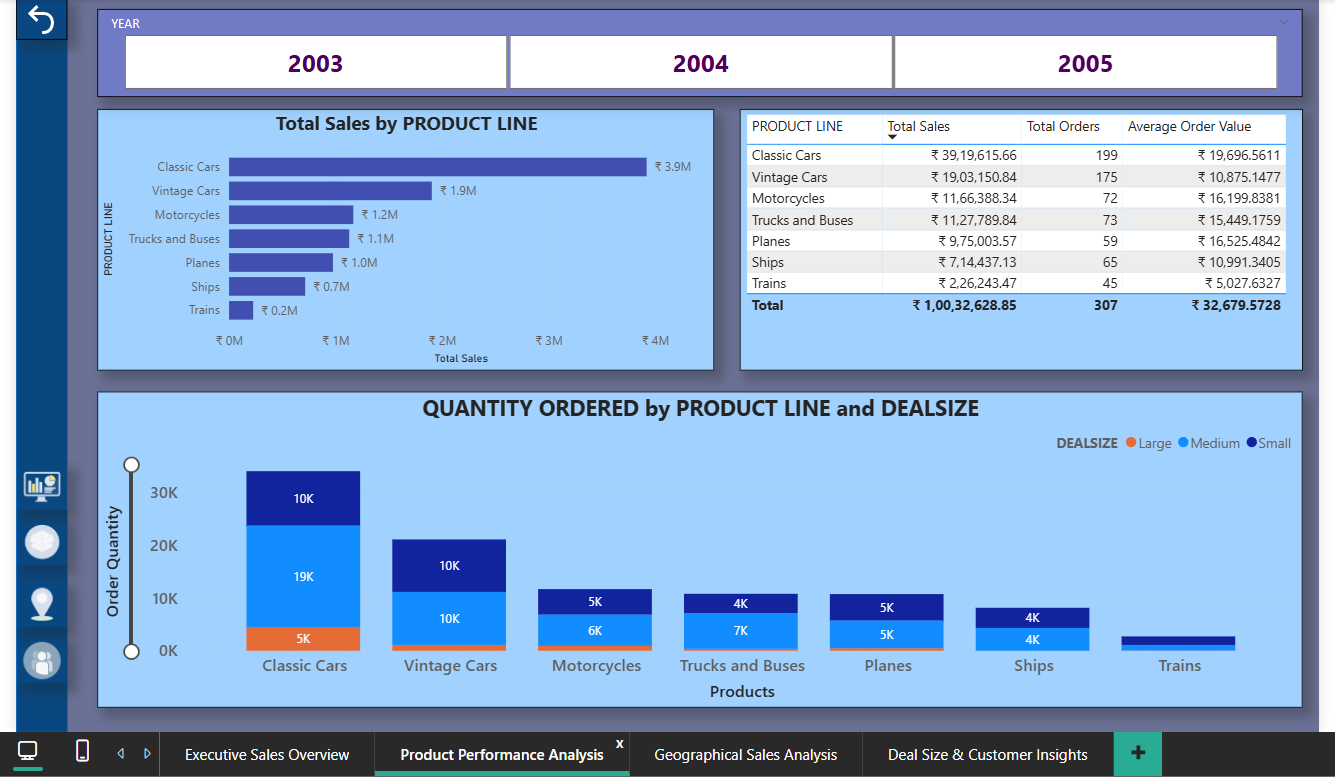

What the dashboard file says about the page in this screenshot:
{"tool":"powerbi","page":{"name":"Product Performance Analysis","canvas":[1280,720],"ordinal":1},"visuals":[{"type":"clusteredBarChart","fields":{"Category":["Sales Data.PRODUCT LINE"],"Y":["Table Measures.Total Sales"]},"box":[79.4,108.2,606,256.8],"z":0},{"type":"columnChart","title":" QUANTITY ORDERED by PRODUCT LINE and DEALSIZE","fields":{"Category":["Sales Data.PRODUCT LINE"],"Y":["Sum(Sales Data.QUANTITY ORDERED)"],"Series":["Sales Data.DEALSIZE"]},"box":[79.4,385.2,1183.1,310.2],"z":1000},{"type":"tableEx","fields":{"Values":["Sales Data.PRODUCT LINE","Table Measures.Total Sales","Table Measures.Total Orders","Table Measures.Average Order Value"]},"box":[709.8,108.2,552.6,256.8],"z":2000},{"type":"shape","box":[0,0,51,720.3],"z":3000},{"type":"actionButton","box":[0,456.5,51,44.8],"z":4000},{"type":"actionButton","box":[0,510.7,50.5,44.7],"z":5000},{"type":"actionButton","box":[0,571.3,50.5,44.7],"z":6000},{"type":"actionButton","box":[0,627.6,50.5,44.7],"z":7000},{"type":"slicer","fields":{"Values":["Sales Data.YEAR_ID"]},"box":[79.4,10.1,1183.1,86.6],"z":8000},{"type":"actionButton","box":[0,0,50.5,40.4],"z":9000}]}

Visuals, with their boxes on the page's 1280x720 design canvas (x1, y1, x2, y2). These are canvas units, not pixel positions in the 1335x777 screenshot, which may show the page scaled, cropped or inside an application window:
clusteredBarChart - Sales Data.PRODUCT LINE x Table Measures.Total Sales: detection(79, 108, 685, 365)
" QUANTITY ORDERED by PRODUCT LINE and DEALSIZE" columnChart: detection(79, 385, 1262, 695)
tableEx - Sales Data.PRODUCT LINE x Table Measures.Total Sales: detection(710, 108, 1262, 365)
shape: detection(0, 0, 51, 720)
actionButton: detection(0, 456, 51, 501)
actionButton: detection(0, 511, 50, 555)
actionButton: detection(0, 571, 50, 616)
actionButton: detection(0, 628, 50, 672)
slicer - Sales Data.YEAR_ID: detection(79, 10, 1262, 97)
actionButton: detection(0, 0, 50, 40)
